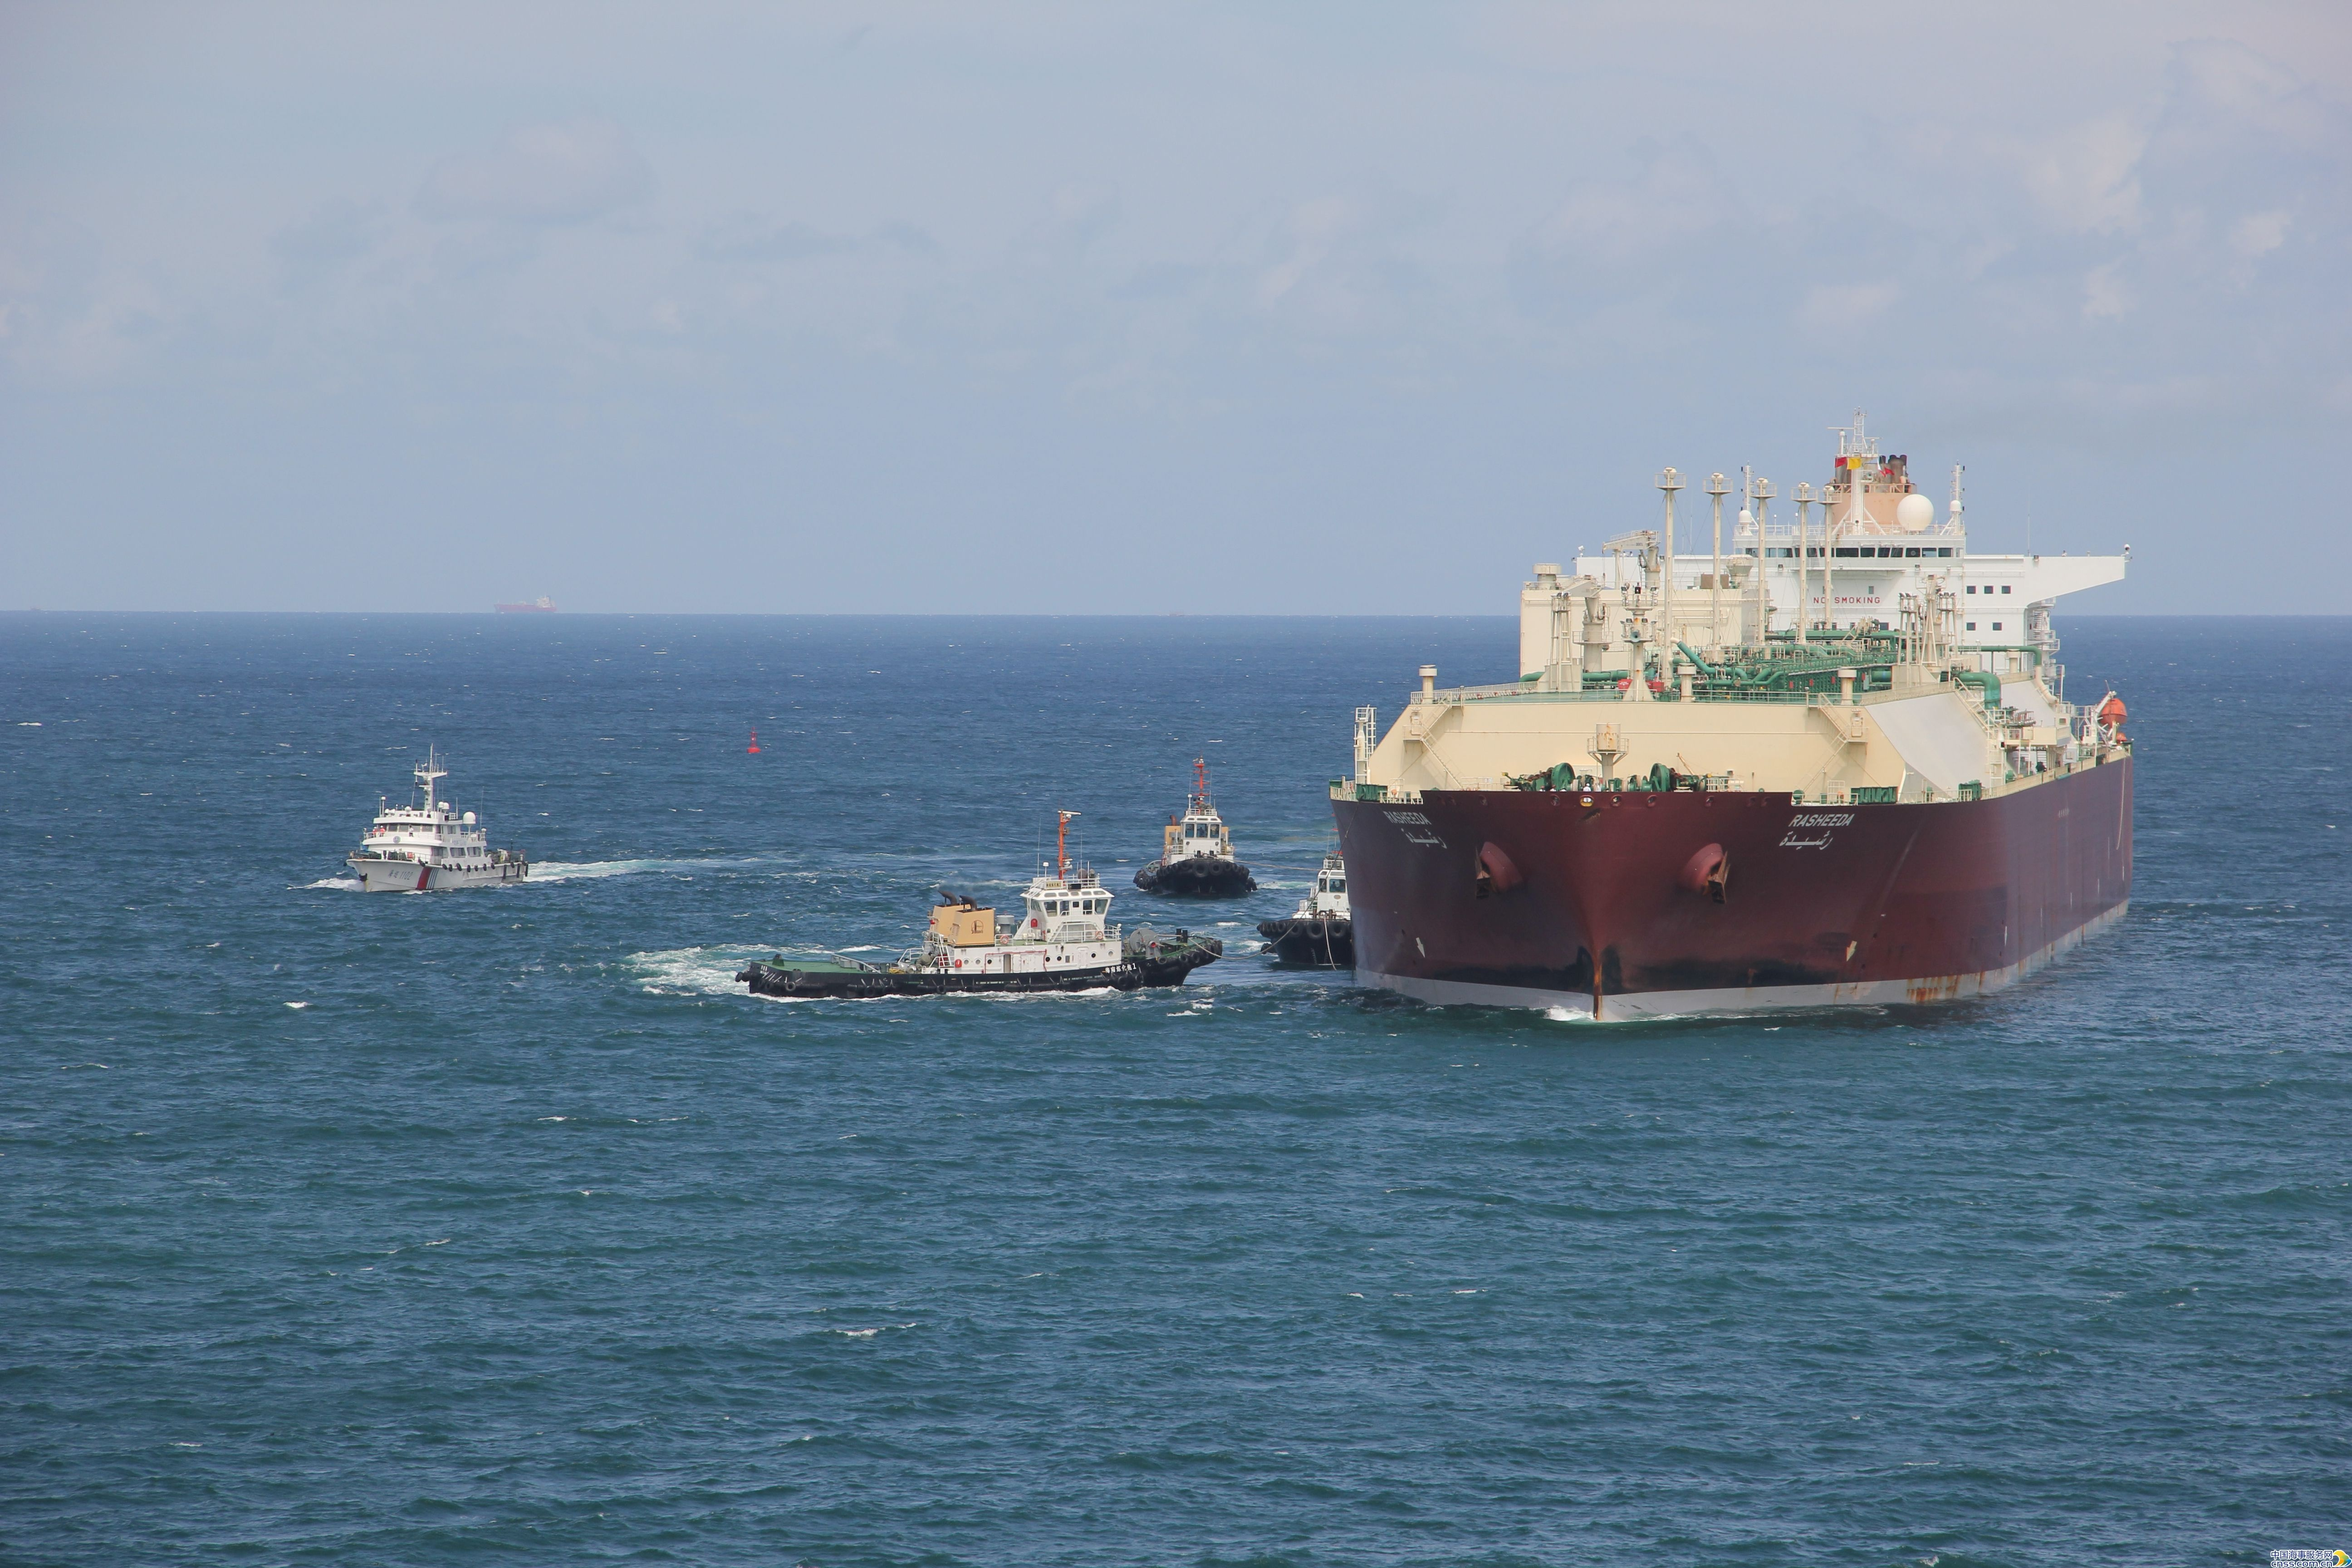Cargoship: (1325, 439, 2153, 1060)
otherboat: (700, 817, 1223, 1034), (329, 754, 522, 900), (1146, 773, 1255, 908), (1251, 852, 1360, 982)
